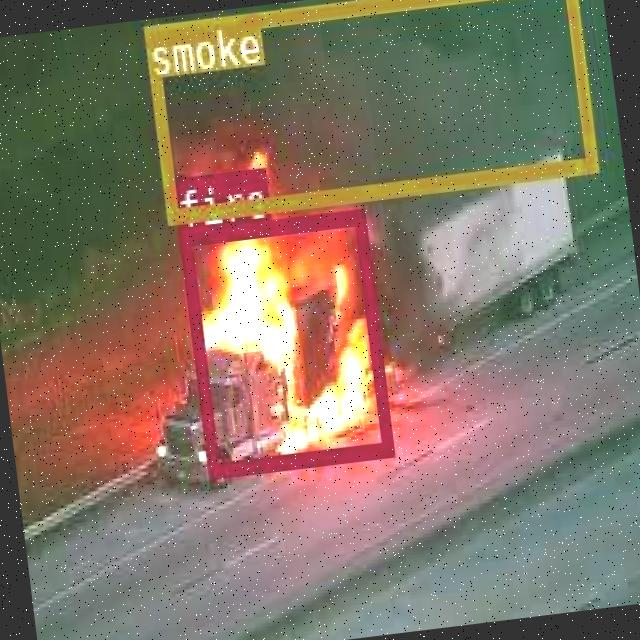fire: (178, 208, 392, 476)
smoke: (140, 0, 594, 221)
